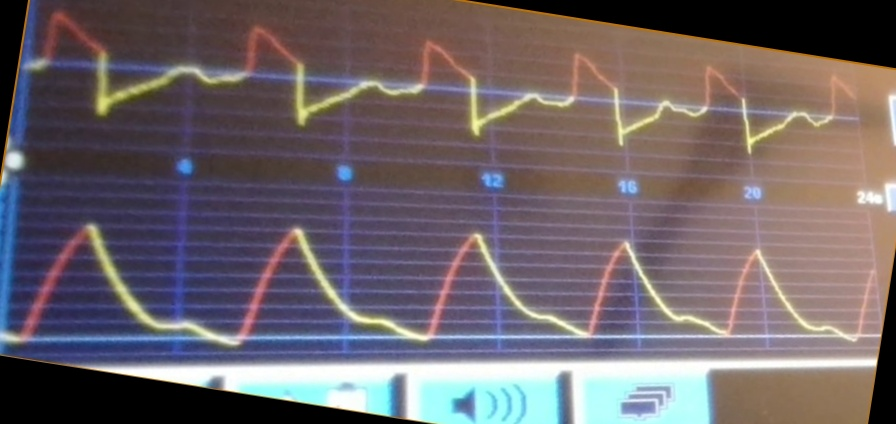Ineffective_effort Flow: (29, 7, 857, 156)
Ineffective_effort Volume: (12, 213, 874, 352)
